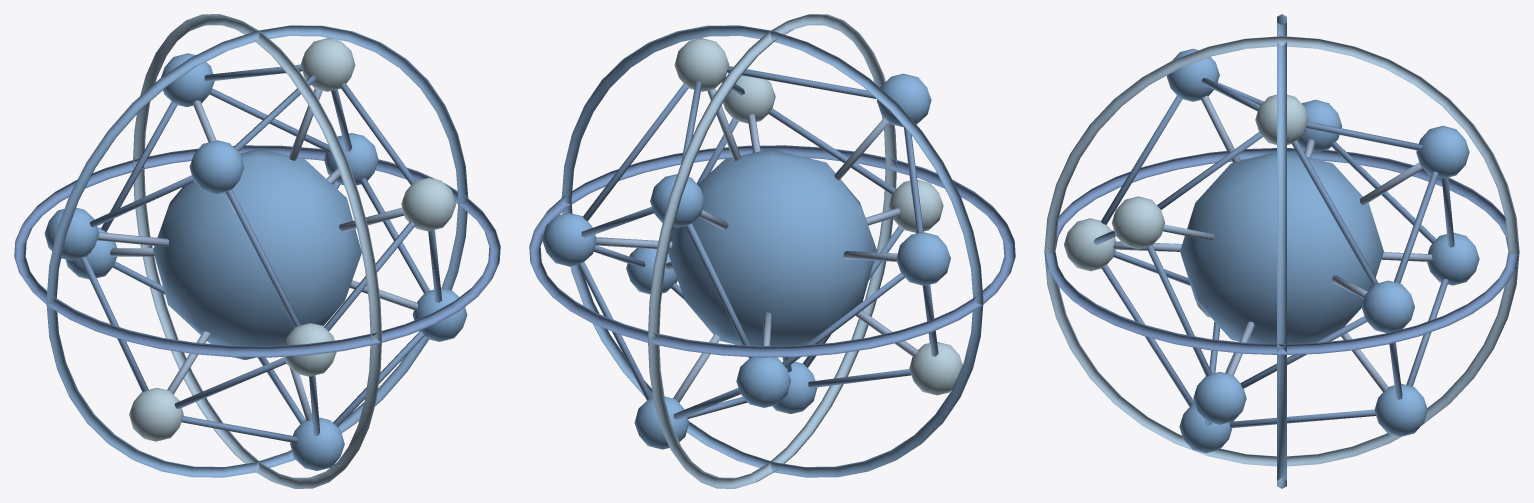
Rendered from ART-09.glb.
The picture shows the model from 3 angles, left to right: view 1: azimuth 30°, elevation 25°; view 2: azimuth 150°, elevation 25°; view 3: azimuth 270°, elevation 25°; orthographic projection. The views are drawn at different scales.
Parts seen in each view (by area): view 1: world; view 2: world; view 3: world.
Part boxes in pixels (box(x1,y1,x2,y2)): world: box(14, 14, 500, 488); world: box(529, 14, 1015, 488); world: box(1044, 14, 1519, 488).
Bounding box in the file's own units: 2 × 2 × 2.
